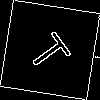T: (24, 24, 80, 77)
